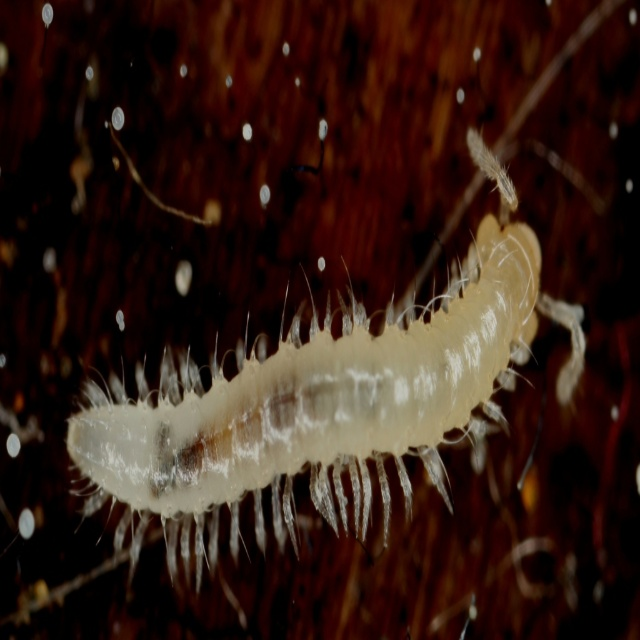Centipede: (62, 217, 542, 587)
